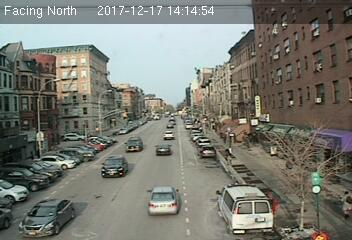car: (15, 200, 80, 237), (146, 185, 180, 215), (100, 155, 129, 179), (124, 136, 145, 153), (153, 144, 173, 156), (199, 146, 214, 159), (162, 130, 176, 141)
police: (217, 182, 277, 237)
